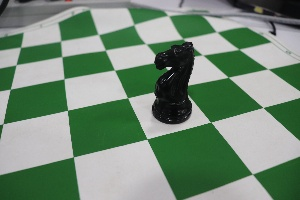black_horse: (147, 27, 197, 126)
